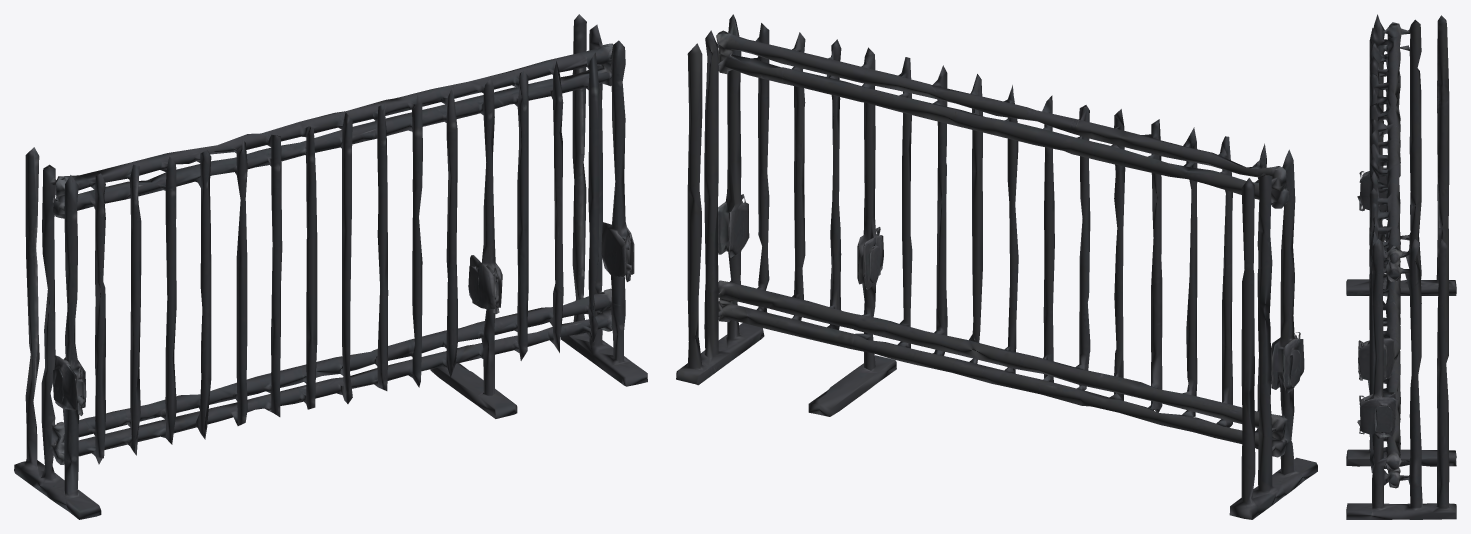
Rendered from crowd_barrier_p.glb.
3 views of the same model, side by side, from view 1: azimuth 30°, elevation 25°; view 2: azimuth 150°, elevation 25°; view 3: azimuth 270°, elevation 25° (orthographic). The views are drawn at different scales.
Bounding box in the file's own units: 1.9 × 1.05 × 0.3807.
Materials: 1 (1 with a texture image).
